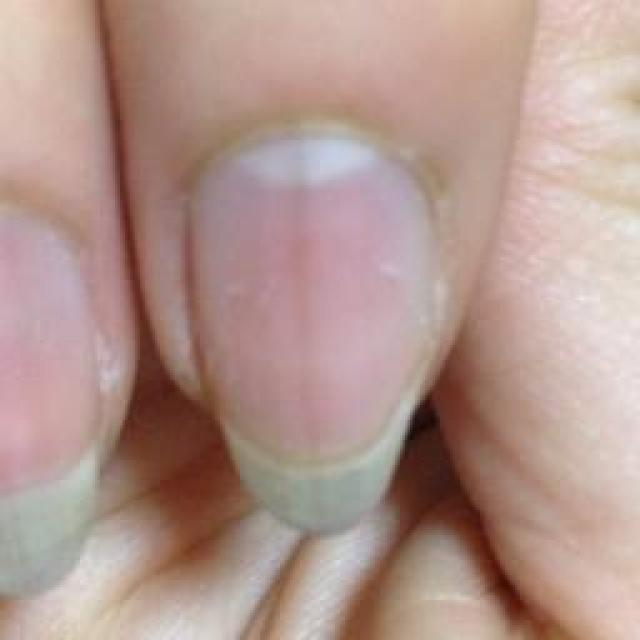Nail: (190, 124, 448, 529), (0, 202, 99, 596)
